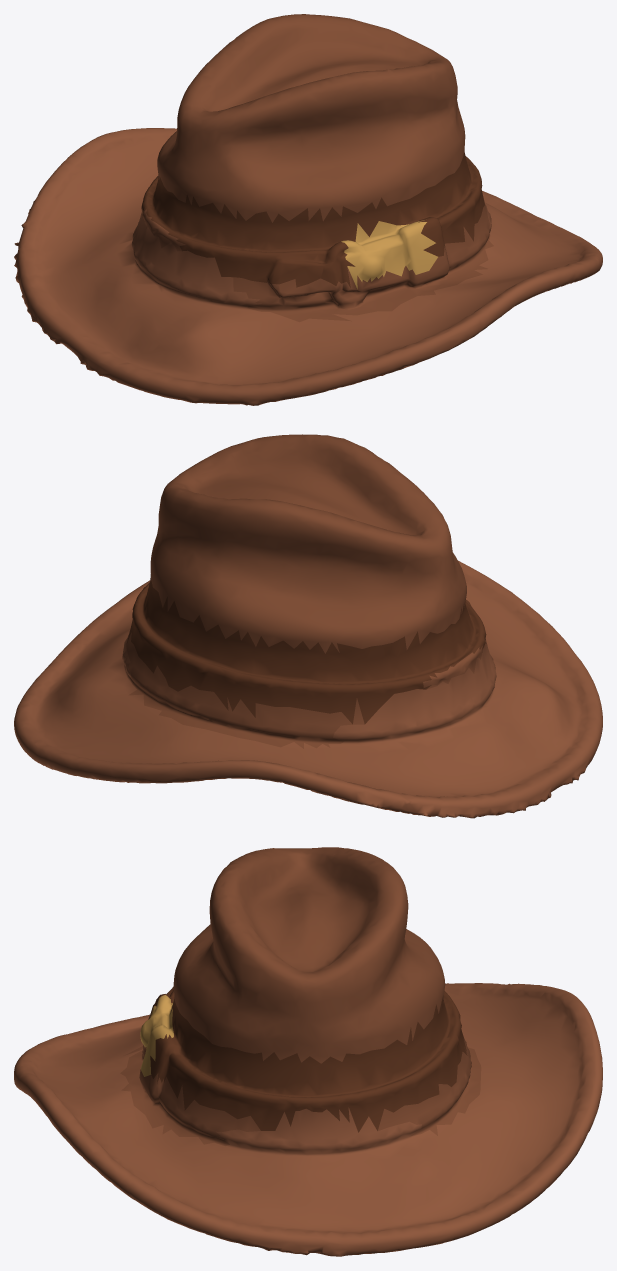
The model's file is chapeu_aventureiro.glb.
The picture shows the model from 3 angles, top to bottom: view 1: azimuth 30°, elevation 25°; view 2: azimuth 150°, elevation 25°; view 3: azimuth 270°, elevation 25°; orthographic projection. The views are drawn at different scales.
Parts seen in each view (by area): view 1: tmp2vn5h43c.ply; view 2: tmp2vn5h43c.ply; view 3: tmp2vn5h43c.ply.
Part boxes in pixels (x1,y1,x2,y2): tmp2vn5h43c.ply: (14, 14, 602, 405); tmp2vn5h43c.ply: (14, 434, 602, 818); tmp2vn5h43c.ply: (14, 847, 602, 1256).
Bounding box in the file's own units: 1.96 × 0.9627 × 1.96.
